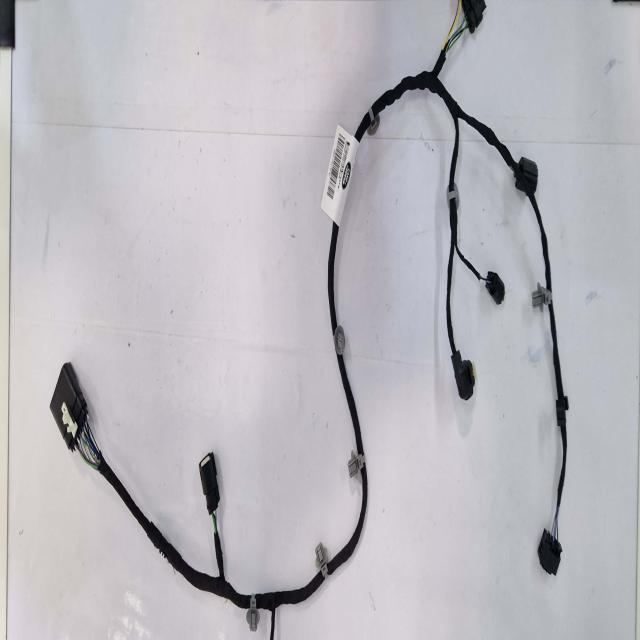Clip: (532, 285, 552, 313), (347, 453, 365, 477), (315, 543, 328, 576), (247, 598, 259, 633), (366, 104, 379, 131), (557, 400, 568, 431), (448, 182, 461, 207), (334, 326, 346, 353)
Connector: (51, 365, 88, 449), (199, 451, 220, 511), (452, 354, 476, 400), (538, 532, 561, 575), (514, 157, 538, 194), (459, 0, 483, 32), (485, 273, 505, 303)
Gape: (72, 414, 102, 476), (443, 5, 471, 56), (553, 478, 566, 515), (210, 502, 220, 532)
Info: (323, 132, 360, 230)
MHEV_N11_Cable: (68, 235, 368, 640), (352, 54, 513, 387), (550, 311, 567, 517), (531, 195, 551, 281), (560, 379, 572, 406)
